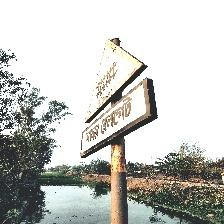Rail-crossing: (79, 38, 157, 159)
